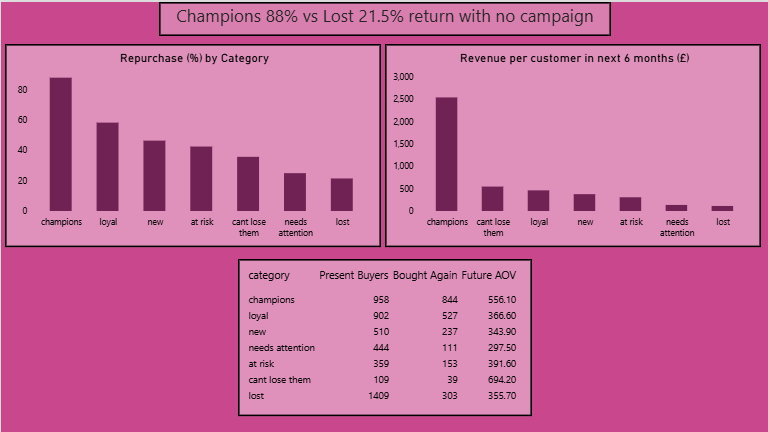

This screenshot's page, from the dashboard's own definition file:
{"tool":"powerbi","page":{"name":"Backtest","canvas":[1920,1080],"ordinal":1},"visuals":[{"type":"textbox","box":[395,0,1130,85],"z":0},{"type":"columnChart","title":"Repurchase (%) by Category","fields":{"Category":["segments.category"],"Y":["Sum(futur_buyer_results.repurchaser_pct)"]},"box":[10,105,940,507.5],"z":1000},{"type":"columnChart","title":"Revenue per customer in next 6 months (£)","fields":{"Category":["segments.category"],"Y":["Sum(futur_buyer_results.revenue_per_customer)"]},"box":[960,105,940,507.5],"z":2000},{"type":"tableEx","fields":{"Values":["segments.category","Sum(futur_buyer_results.present_buyers)","Sum(futur_buyer_results.bought_again)","Sum(futur_buyer_results.future_aov)"]},"box":[592.5,642.5,735,392.5],"z":3000}]}

Visuals, with their boxes in screenshot pixels (x1, y1, x2, y2), scaled from the page's 1920x1080 canvas onto the 768x432 screenshot:
textbox: locate(158, 0, 610, 34)
"Repurchase (%) by Category" columnChart: locate(4, 42, 380, 245)
"Revenue per customer in next 6 months (£)" columnChart: locate(384, 42, 760, 245)
tableEx - segments.category x Sum(futur_buyer_results.present_buyers): locate(237, 257, 531, 414)
